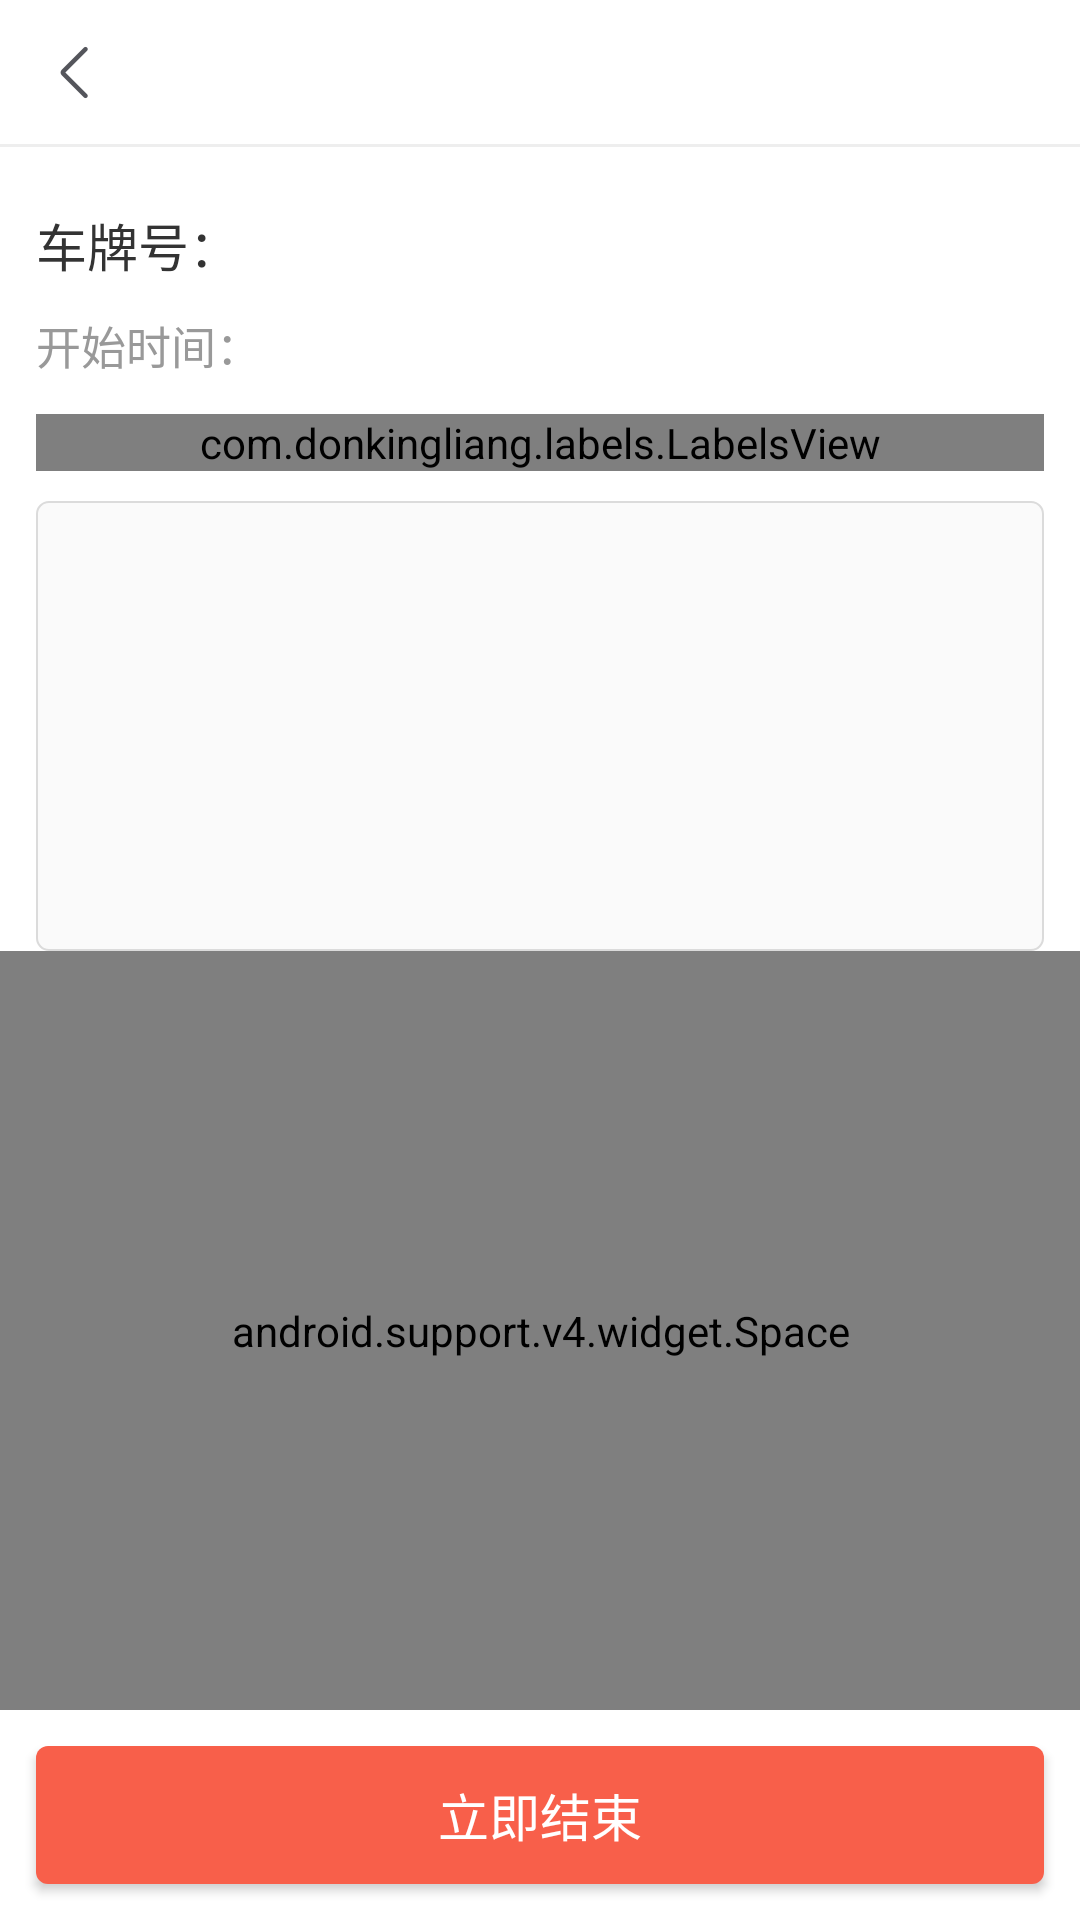

Screen size 1080 × 1920. Icon name, then its center in pixels as [x,y]:
back: [74,72]
